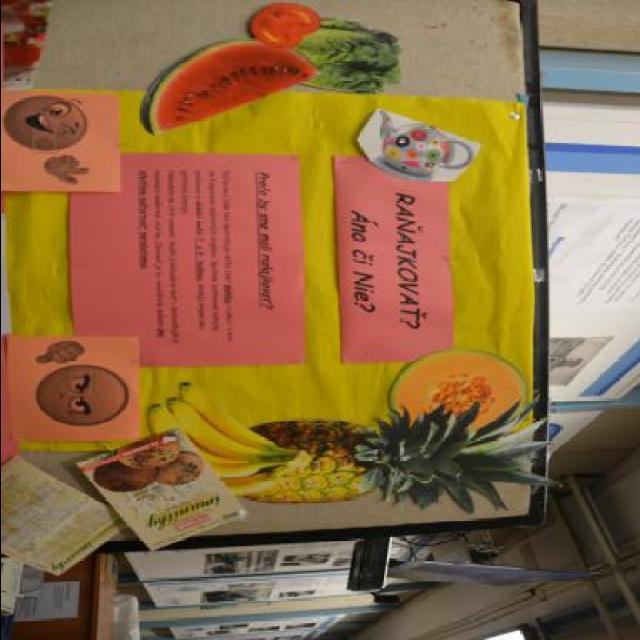Pineapple: (190, 394, 552, 514)
